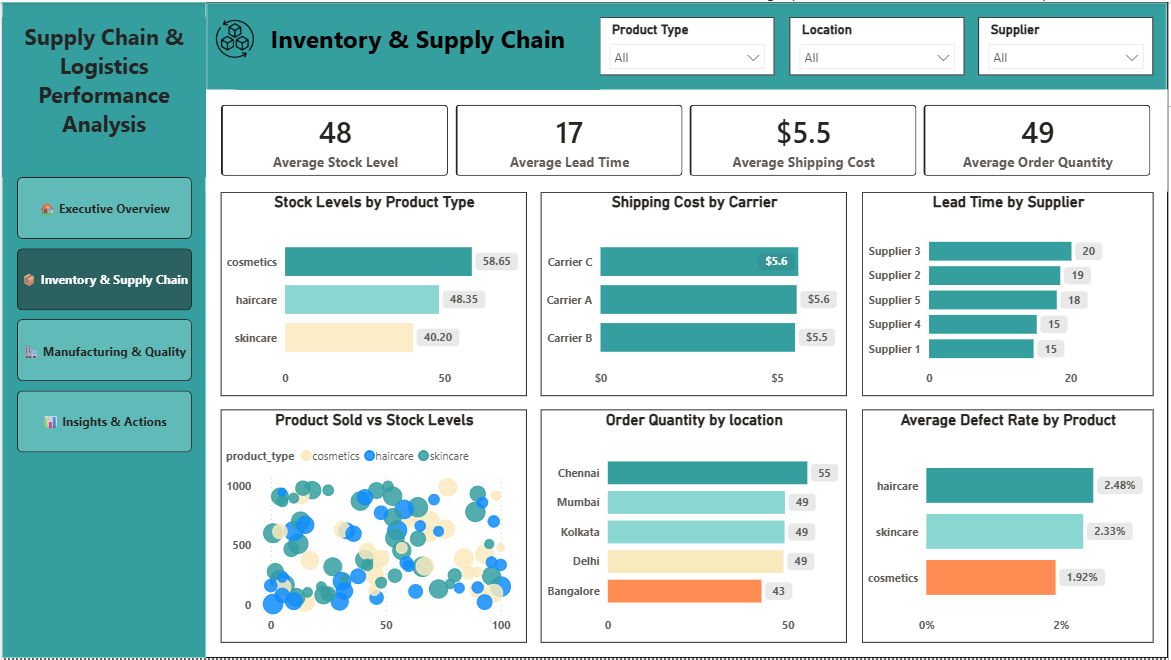

The dashboard page shown, as its layout file describes it:
{"tool":"powerbi","page":{"name":"📦 Inventory & Supply Chain","canvas":[1280,720],"ordinal":1},"visuals":[{"type":"shape","box":[0,0,1280,720],"z":0},{"type":"shape","box":[224,0,1056,112],"z":1000},{"type":"shape","box":[0,0,224,720],"z":2000},{"type":"cardVisual","fields":{"Data":["Measures_Table.Average Stock Level","Measures_Table.Average Lead Time","Measures_Table.Average Shipping Cost","Measures_Table.Average Order Quantity"]},"box":[224,96,1056,112],"z":3000},{"type":"barChart","title":"Stock Levels by Product Type","fields":{"Category":["supply_chain.product_type"],"Y":["Avg(supply_chain.stock_levels)"]},"box":[240,208,336,224],"z":4000},{"type":"slicer","fields":{"Values":["supply_chain.location"]},"box":[864,16,192,64],"z":5000},{"type":"slicer","fields":{"Values":["supply_chain.supplier_name"]},"box":[1072,16,192,64],"z":6000},{"type":"slicer","fields":{"Values":["supply_chain.product_type"]},"box":[656,16,192,64],"z":7000},{"type":"clusteredBarChart","title":"Shipping Cost by Carrier","fields":{"Category":["supply_chain.shipping_carriers"],"Y":["Measures_Table.Average Shipping Cost"]},"box":[592,208,336,224],"z":8000},{"type":"barChart","title":"Lead Time by Supplier","fields":{"Category":["supply_chain.supplier_name"],"Y":["Measures_Table.Average Lead Time"]},"box":[944,208,320,224],"z":9000},{"type":"scatterChart","title":"Product Sold vs Stock Levels","fields":{"X":["Measures_Table.Average Stock Level"],"Y":["Measures_Table.Total Products Sold"],"Series":["supply_chain.product_type"],"Size":["Measures_Table.Total Revenue"],"Category":["supply_chain.sku"]},"box":[240,448,336,256],"z":10000},{"type":"clusteredBarChart","title":"Order Quantity by location","fields":{"Y":["Measures_Table.Average Order Quantity"],"Category":["supply_chain.location"]},"box":[592,448,336,256],"z":11000},{"type":"barChart","title":"Average Defect Rate by Product","fields":{"Category":["supply_chain.product_type"],"Y":["Measures_Table.Average Defect Rate"]},"box":[944,448,320,256],"z":12000},{"type":"textbox","box":[256,16,400,80],"z":13000},{"type":"textbox","box":[0,16,224,176],"z":14000},{"type":"image","box":[176,16,160,48],"z":15000},{"type":"pageNavigator","box":[16,192,192,304],"z":16000}]}

Visuals, with their boxes on the page's 1280x720 design canvas (x1, y1, x2, y2). These are canvas units, not pixel positions in the 1171x660 screenshot, which may show the page scaled, cropped or inside an application window:
shape: l=0, t=0, r=1280, b=720
shape: l=224, t=0, r=1280, b=112
shape: l=0, t=0, r=224, b=720
cardVisual - Measures_Table.Average Stock Level x Measures_Table.Average Lead Time: l=224, t=96, r=1280, b=208
"Stock Levels by Product Type" barChart: l=240, t=208, r=576, b=432
slicer - supply_chain.location: l=864, t=16, r=1056, b=80
slicer - supply_chain.supplier_name: l=1072, t=16, r=1264, b=80
slicer - supply_chain.product_type: l=656, t=16, r=848, b=80
"Shipping Cost by Carrier" clusteredBarChart: l=592, t=208, r=928, b=432
"Lead Time by Supplier" barChart: l=944, t=208, r=1264, b=432
"Product Sold vs Stock Levels" scatterChart: l=240, t=448, r=576, b=704
"Order Quantity by location" clusteredBarChart: l=592, t=448, r=928, b=704
"Average Defect Rate by Product" barChart: l=944, t=448, r=1264, b=704
textbox: l=256, t=16, r=656, b=96
textbox: l=0, t=16, r=224, b=192
image: l=176, t=16, r=336, b=64
pageNavigator: l=16, t=192, r=208, b=496
